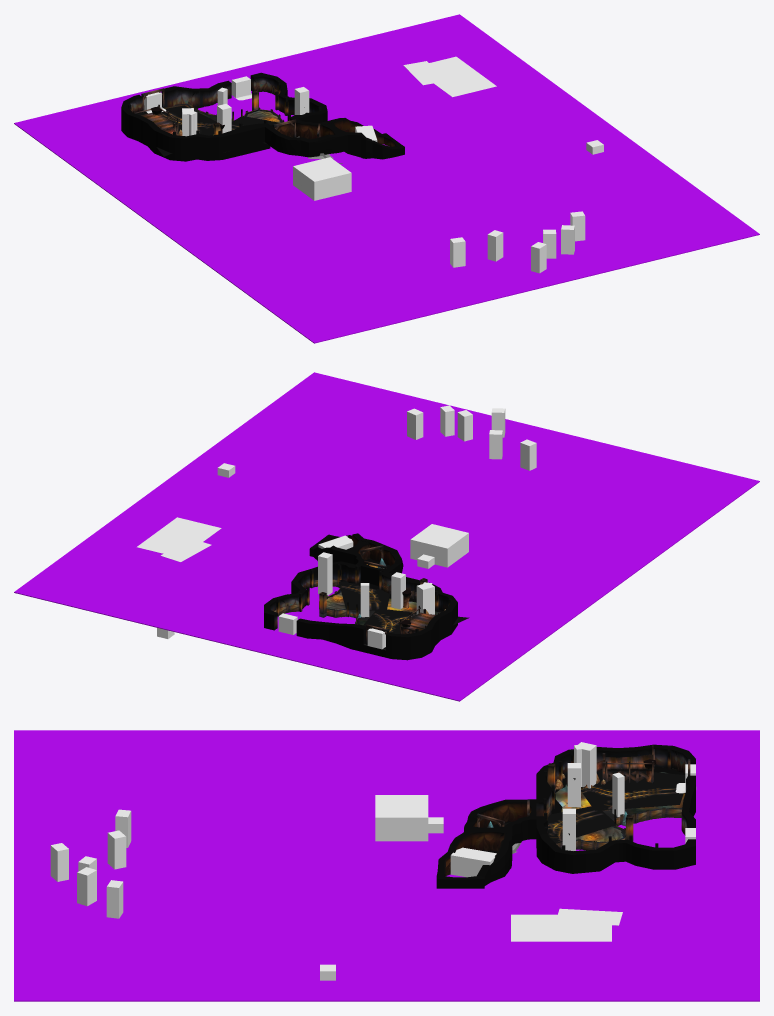
3 views of the same model, one above another, from view 1: azimuth 30°, elevation 25°; view 2: azimuth 150°, elevation 25°; view 3: azimuth 270°, elevation 25° (orthographic). The views are drawn at different scales.
Parts seen in each view (by area): view 1: NavGrid_CheckArea, D031_Wall001, Dan1 (×2), Cube (9), Cube, D031_pillar002_Parts, Dungeon_031_Object_Rail_01; view 2: NavGrid_CheckArea, D031_Wall001, D031_pillar002_Parts, Cube (9), Cube, Dungeon_031_Object_Rail_01, Dan1 (×2), Cube (1), D031_Ground001; view 3: NavGrid_CheckArea, D031_Wall001, Cube (×3), Dungeon_031_Object_Rail_01, Dan1 (×3), D031_pillar002_Parts, Cube (9), Cube (3) (×2), Cube (2) (×2), D031_Ground001, FieldDungeon_Enter (2), Dun_011_Door_002 (+2 smaller).
Part boxes in pixels (x1,y1,x2,y2): NavGrid_CheckArea: [14, 14, 759, 343]; D031_Wall001: [121, 72, 327, 161]; Dan1 (×2): [265, 118, 404, 159]; Cube (9): [293, 157, 351, 200]; Cube: [412, 56, 496, 97]; D031_pillar002_Parts: [128, 80, 321, 137]; Dungeon_031_Object_Rail_01: [137, 105, 279, 156]; NavGrid_CheckArea: [14, 372, 759, 701]; D031_Wall001: [264, 561, 457, 660]; D031_pillar002_Parts: [274, 545, 451, 643]; Cube (9): [410, 524, 468, 567]; Cube: [136, 517, 221, 557]; Dungeon_031_Object_Rail_01: [338, 581, 469, 633]; Dan1 (×2): [309, 533, 403, 573]; Cube (1): [318, 552, 332, 595]; D031_Ground001: [326, 592, 438, 650]; NavGrid_CheckArea: [14, 730, 759, 1001]; D031_Wall001: [536, 744, 695, 873]; Cube (×3): [77, 763, 611, 941]; Dungeon_031_Object_Rail_01: [504, 770, 685, 843]; Dan1 (×3): [436, 799, 536, 888]; D031_pillar002_Parts: [476, 745, 690, 850]; Cube (9): [375, 795, 428, 841]; Cube (3) (×2): [50, 742, 596, 881]; Cube (2) (×2): [106, 772, 624, 918]; D031_Ground001: [555, 768, 684, 841]; FieldDungeon_Enter (2): [450, 847, 496, 877]; Dun_011_Door_002: [465, 829, 510, 851].
Size of what is drawn, in the model's own units: 60 by 8.92 by 70.
